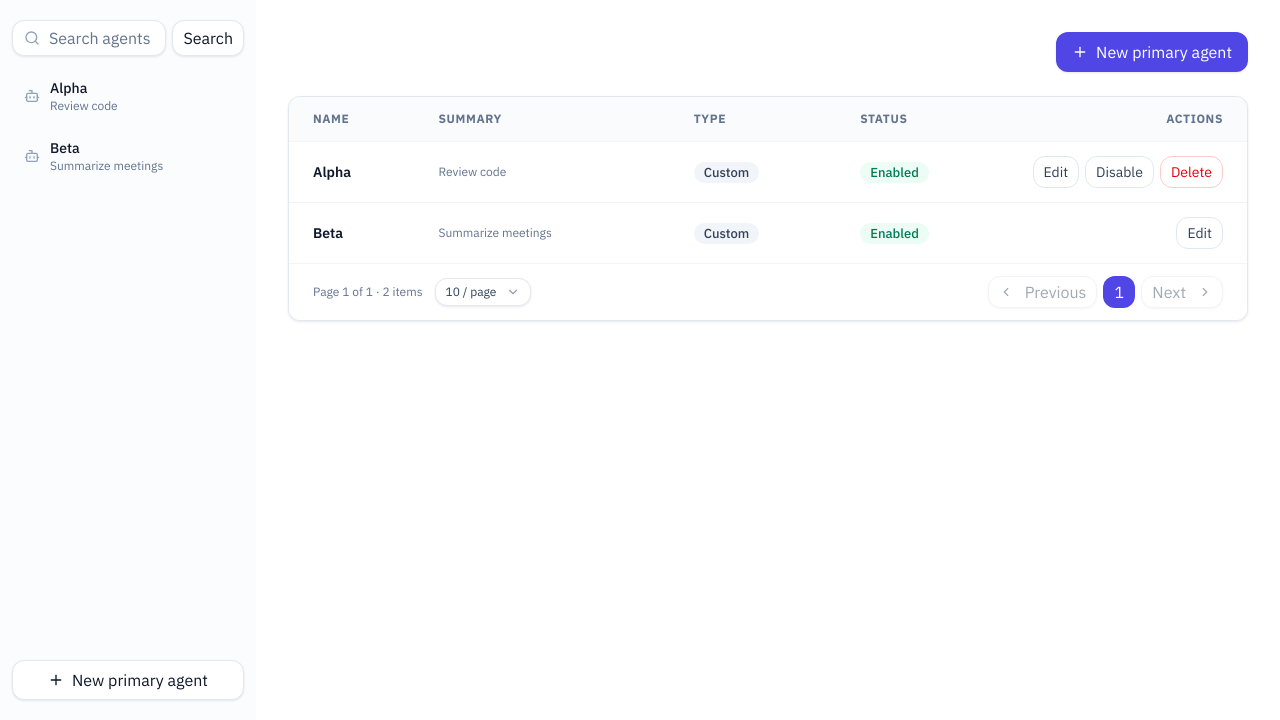
Scenario: agent management split view › selects an agent from the left list and renders editable details on the right without an edit navigation step
The image size is (1280, 720).
Click the button "Alpha Review code". click: (128, 96)
box: [12,68,244,124]
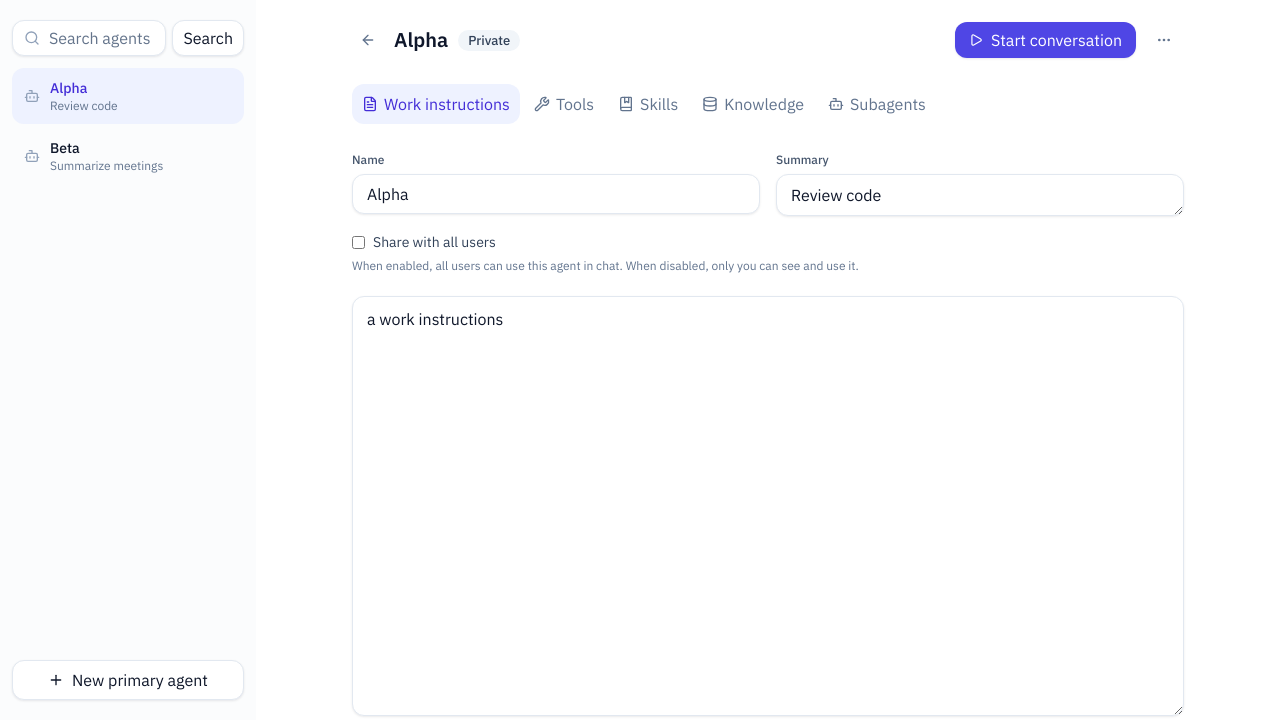
Check: the field showing "Alpha" is shown, box [352,174,760,214]
Check: the text box showing "a work instructions" is shown, box [352,296,1184,716]
Check: the button "Start conversation" is shown, box [955,22,1136,58]
Click the button "Beta Summarize meetings". click: (128, 156)
box: [12,128,244,184]
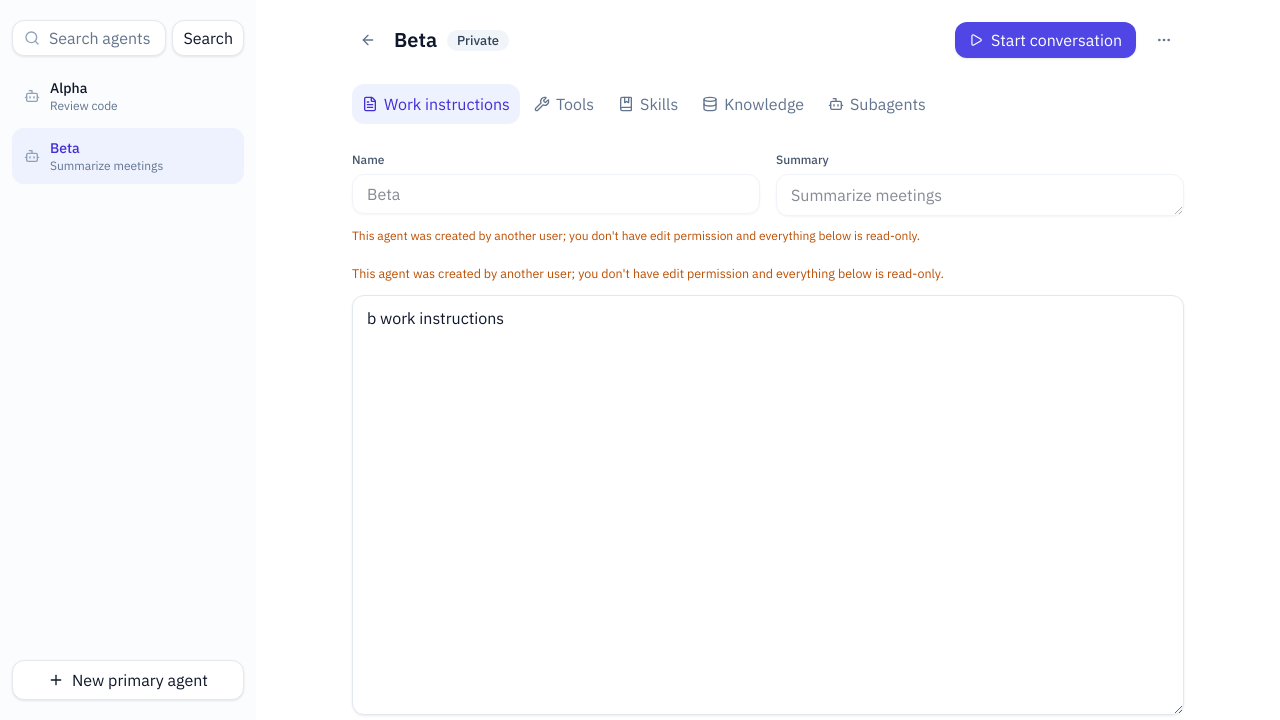
Check: the field showing "Beta" is disabled, box [352,174,760,214]
